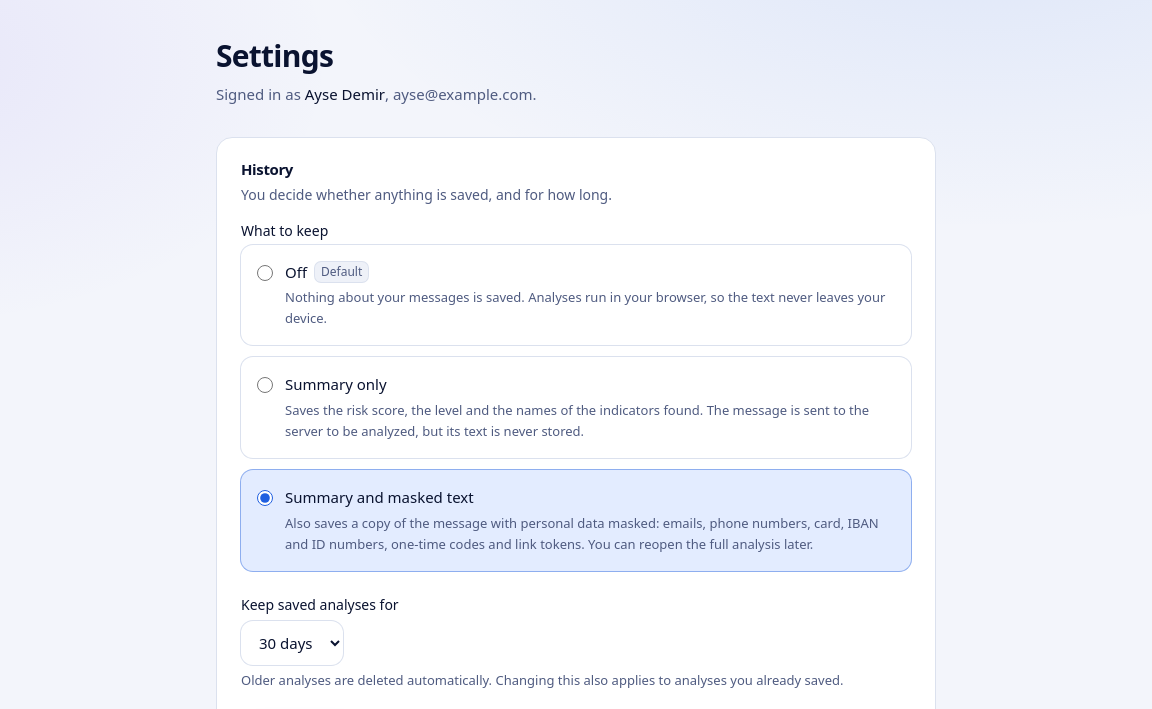
Test case: SettingsPage › warns before stepping down from masked text, because stored text is deleted
Click the radio button labelled "Summary only" at (265, 385), box [257, 377, 273, 393]
(page scrolled)
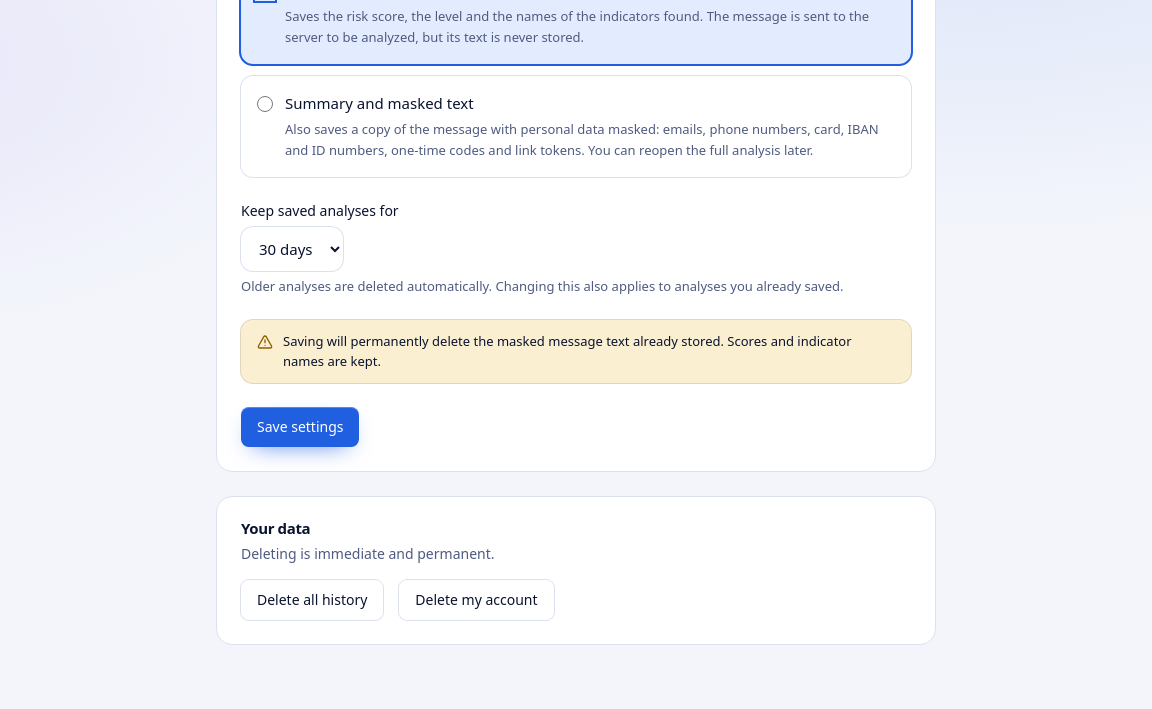
Expected: the message shows "permanently delete the masked message text", [283, 332, 852, 370]
